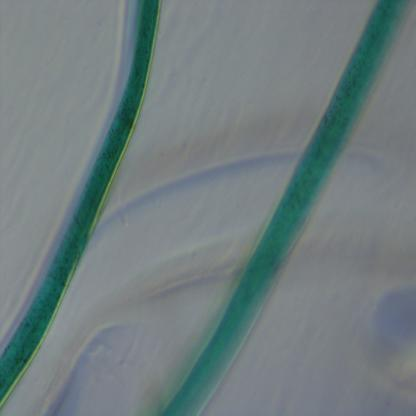Microfibre: (157, 1, 416, 415), (0, 1, 162, 407)
